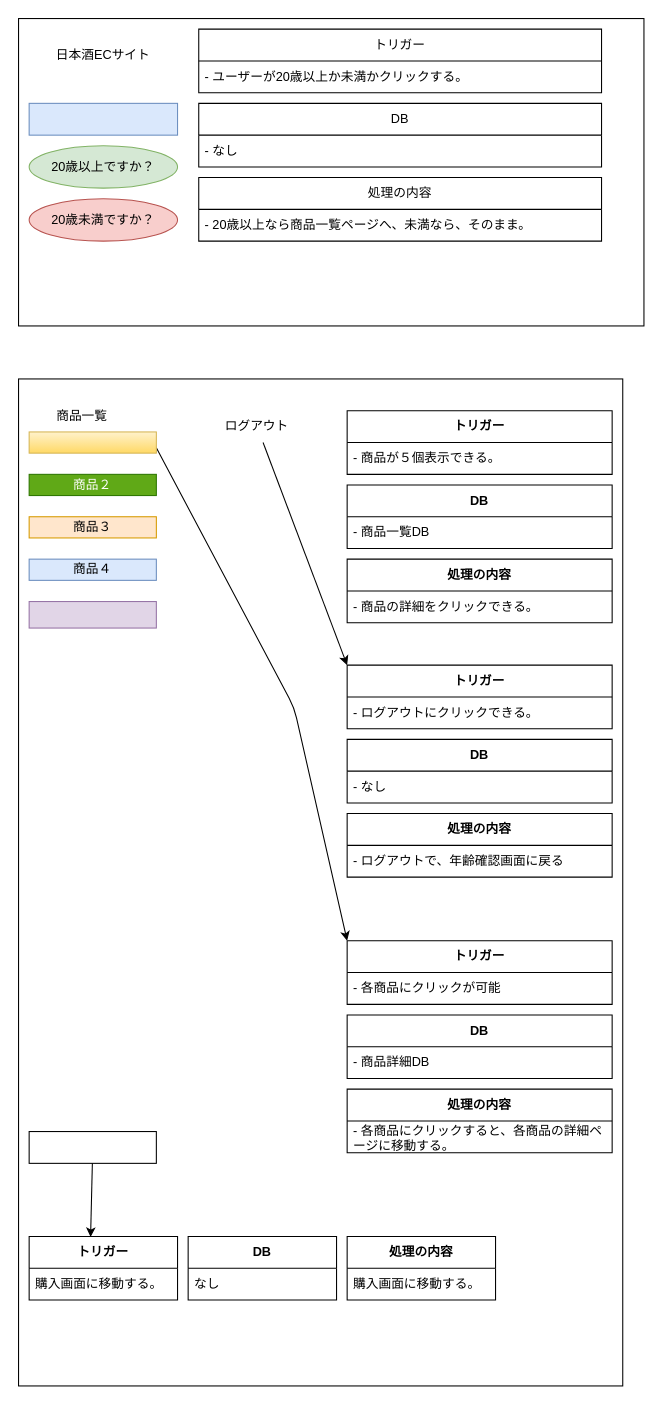
The diagram is 662 pixels wide and 1404 high, and some of its shapes have lost their labels. The centre of each missing label's shape, as x and y in pixels:
商品１: (x=92, y=442)
商品５: (x=92, y=614)
年齢確認: (x=103, y=118)
購入: (x=92, y=1146)
